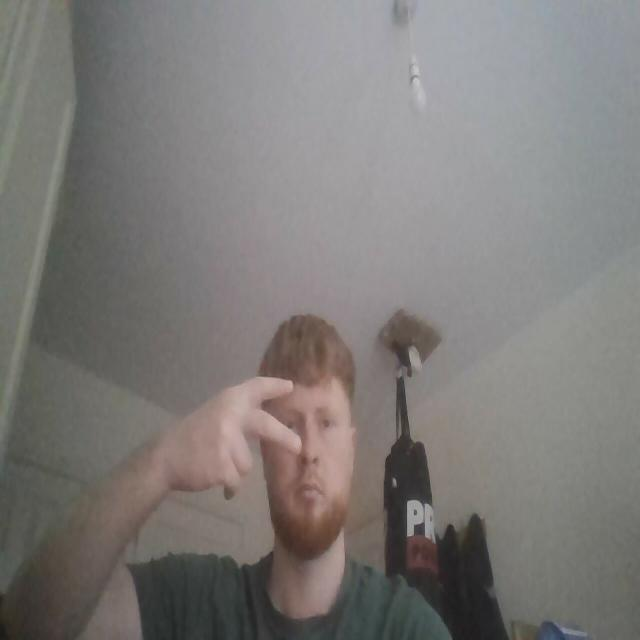scissors: (172, 376, 304, 505)
